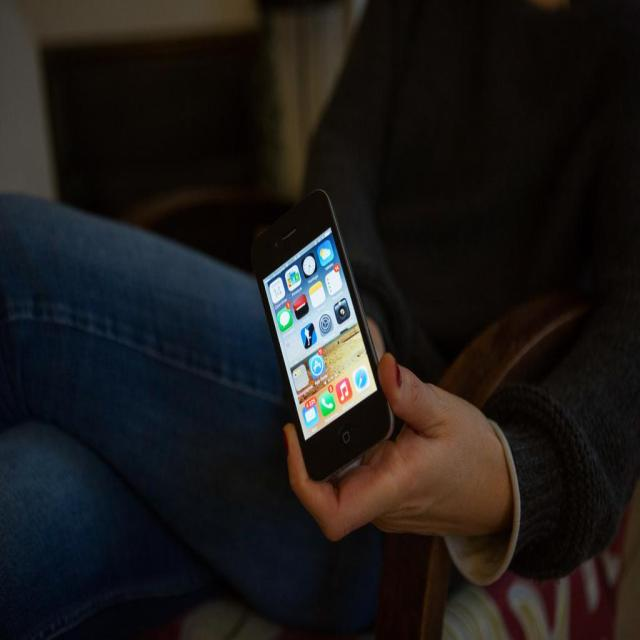Phone: (250, 186, 396, 484)
